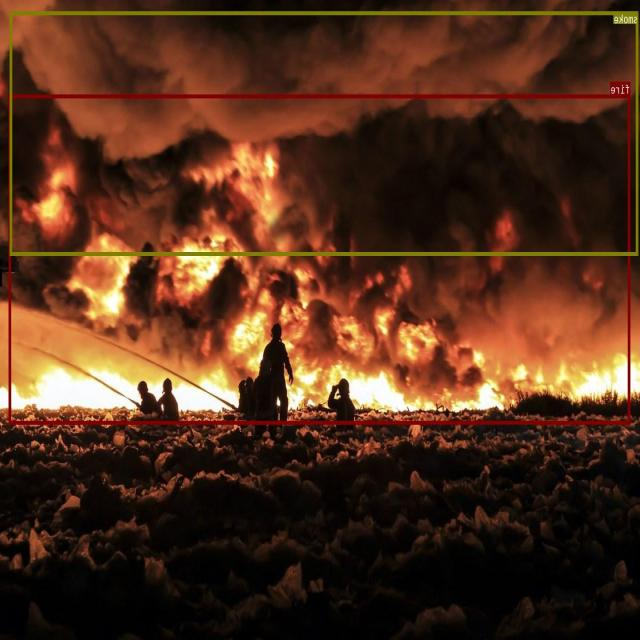fire: (9, 94, 631, 423)
smoke: (10, 11, 639, 254)
